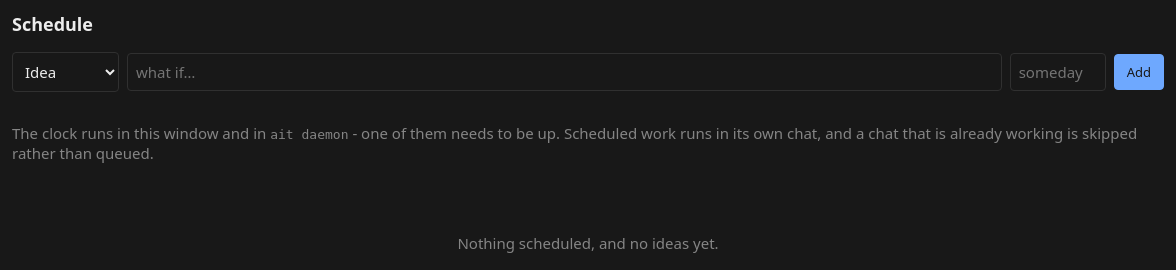
Scenario: a scheduled run is refused until it has somewhere to run
Select "Run" in the dropdown named "kind": (66,72) [12,52,119,92]
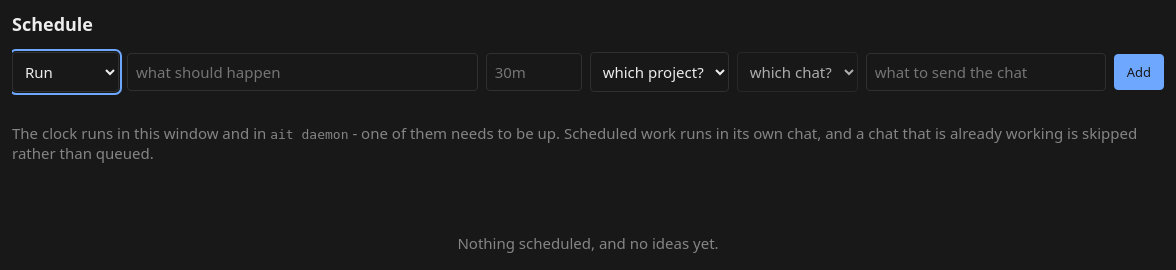
In the field named "title": (302,72) [127,53,478,91], type "nightly build"
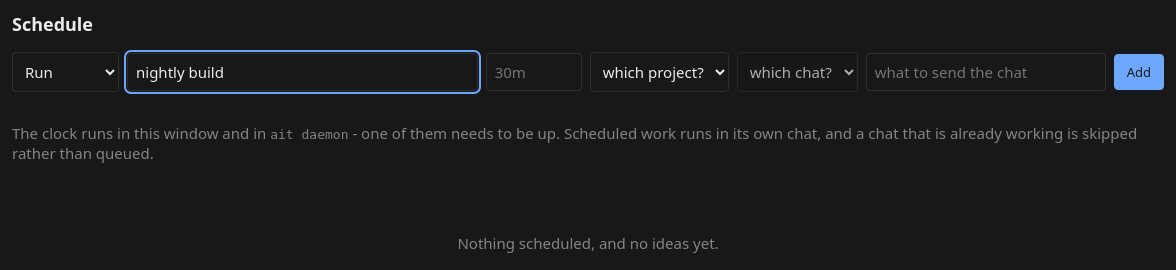
In the field named "when": (534,72) [486,53,582,91], type "2h"
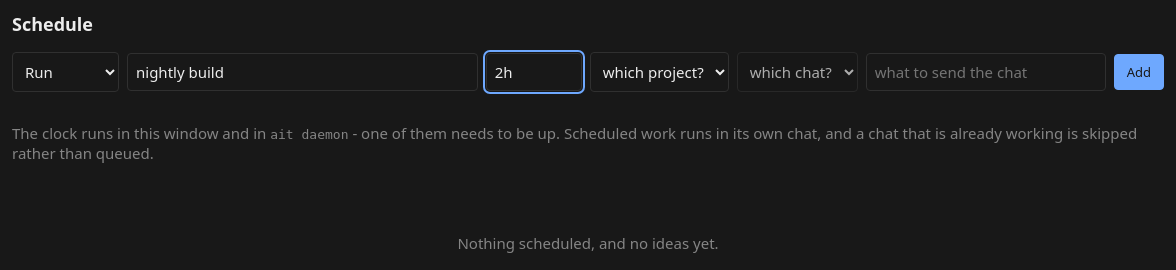
Click the button "Add": (1139,72) [1114,54,1164,90]
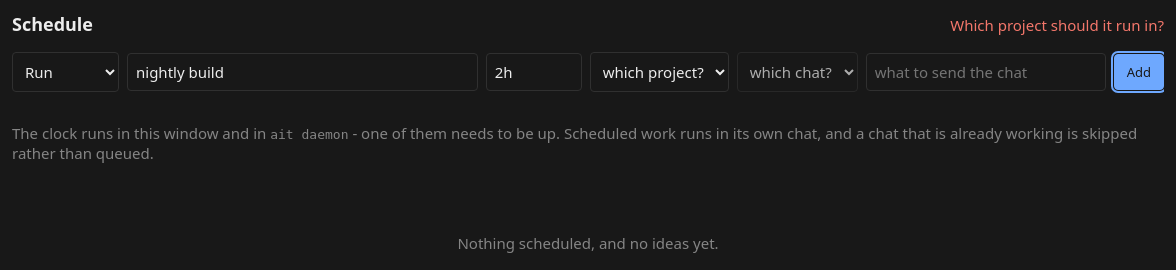
Expected: the text "Which project should it run in?" is shown, [950,15,1164,35]
